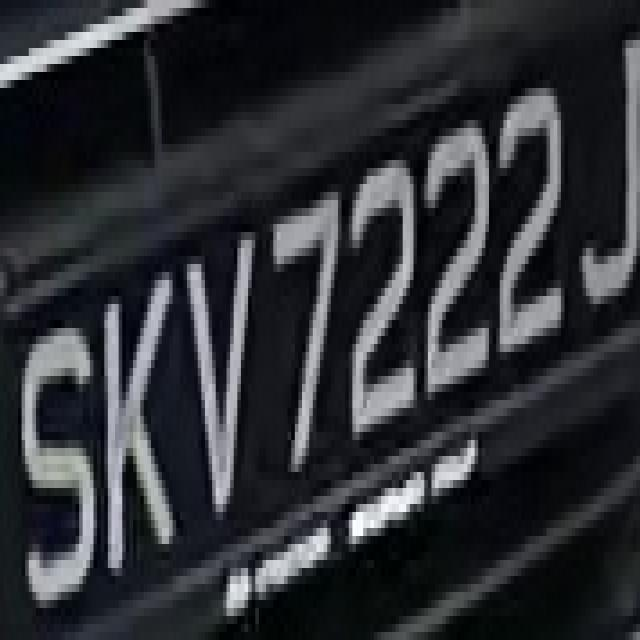2: (482, 64, 579, 384), (324, 160, 424, 456), (414, 112, 496, 440)
7: (262, 176, 349, 504)
J: (571, 0, 640, 320)
K: (104, 240, 176, 600)
S: (15, 296, 94, 600)
V: (172, 208, 270, 536)
